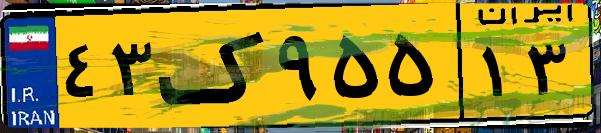1: (475, 38, 525, 113)
3: (525, 38, 570, 115), (110, 28, 158, 98)
4: (57, 26, 110, 100)
5: (385, 28, 445, 110), (330, 28, 385, 110)
9: (270, 28, 330, 110)
ک: (158, 12, 270, 120)
